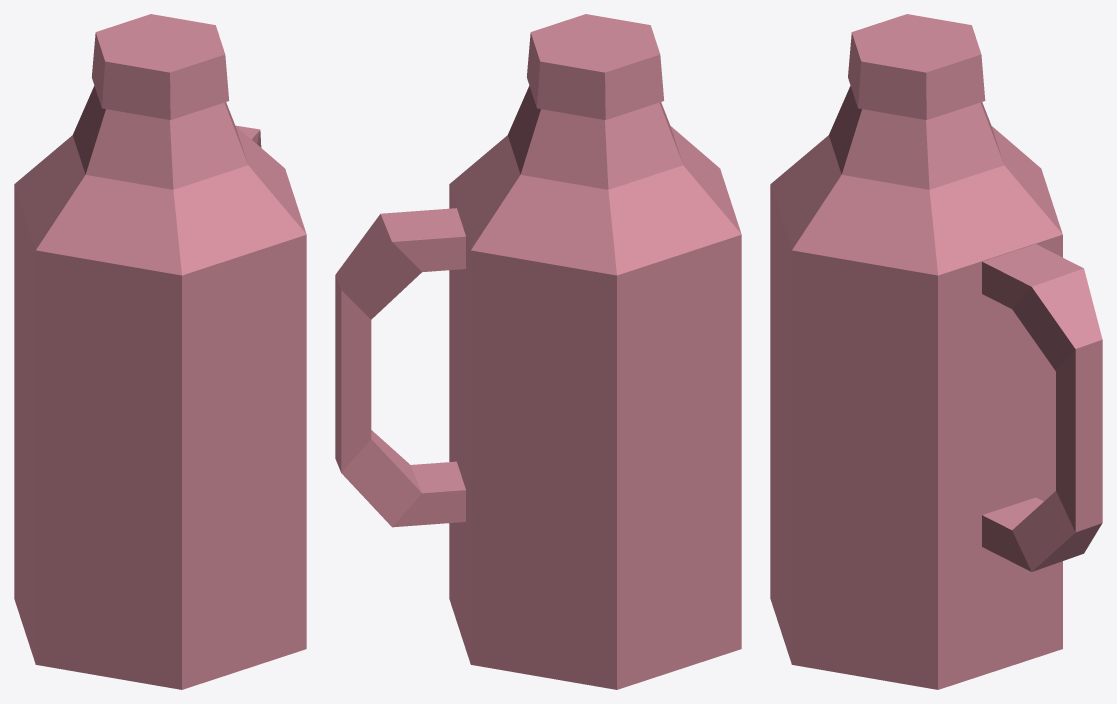
File: Garage_Bottle2.fbx
3 views of the same model, side by side, from view 1: azimuth 30°, elevation 25°; view 2: azimuth 150°, elevation 25°; view 3: azimuth 270°, elevation 25° (orthographic).
Parts seen in each view (by area): view 1: Garage_Bottle2; view 2: Garage_Bottle2; view 3: Garage_Bottle2.
Part boxes in pixels (x1,y1,x2,y2): Garage_Bottle2: (14, 14, 306, 689); Garage_Bottle2: (335, 14, 741, 689); Garage_Bottle2: (770, 14, 1102, 689).
Size of the model in its own units: 14.23 by 24.96 by 12.94.
